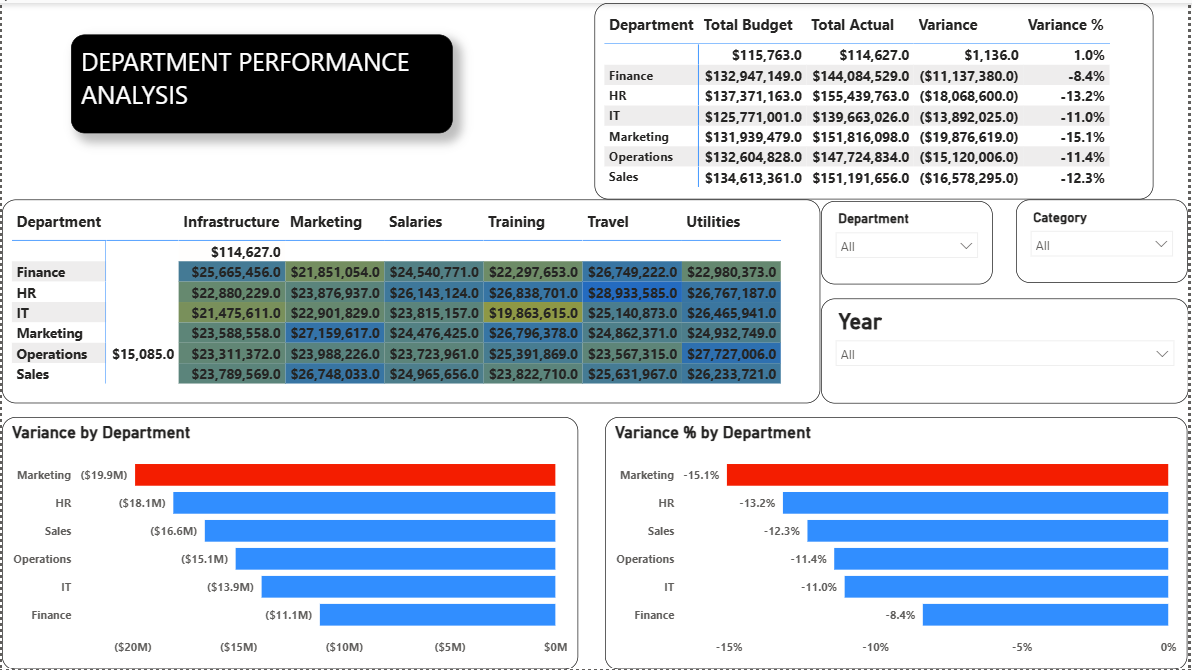

The page's visual inventory and layout, read from the dashboard file:
{"tool":"powerbi","page":{"name":"department performance analysis","canvas":[1280,720],"ordinal":1},"visuals":[{"type":"textbox","box":[75,33.3,411.7,106.7],"z":0},{"type":"clusteredBarChart","fields":{"Category":["Finance.Department"],"Y":["Finance.Variance"]},"box":[0,446.7,621.7,273.3],"z":1},{"type":"clusteredBarChart","fields":{"Y":["Finance.Variance %"],"Category":["Finance.Department"]},"box":[651.7,446.7,628.3,273.3],"z":2},{"type":"pivotTable","fields":{"Rows":["Finance.Department"],"Values":["Finance.Total Budget","Finance.Total Actual","Finance.Variance","Finance.Variance %"]},"box":[640,0,603.3,211.7],"z":3},{"type":"pivotTable","fields":{"Rows":["Finance.Department"],"Columns":["Finance.Category"],"Values":["Finance.Total Actual"]},"box":[0,211.7,883.3,220],"z":4},{"type":"slicer","fields":{"Values":["Finance.Category"]},"box":[1095,211.7,185,90],"z":5},{"type":"slicer","fields":{"Values":["Finance.Department"]},"box":[883.3,213.3,185,90],"z":6},{"type":"slicer","fields":{"Values":["Date Table.Year"]},"box":[883.3,318.3,396.7,113.3],"z":7}]}

Visuals, with their boxes in screenshot pixels (x1, y1, x2, y2), scaled from the page's 1280x720 canvas onto the 1192x670 screenshot:
textbox: <bbox>70, 31, 453, 130</bbox>
clusteredBarChart - Finance.Department x Finance.Variance: <bbox>0, 416, 579, 669</bbox>
clusteredBarChart - Finance.Variance % x Finance.Department: <bbox>607, 416, 1191, 669</bbox>
pivotTable - Finance.Department x Finance.Total Budget: <bbox>596, 0, 1158, 197</bbox>
pivotTable - Finance.Department x Finance.Category: <bbox>0, 197, 823, 402</bbox>
slicer - Finance.Category: <bbox>1020, 197, 1191, 281</bbox>
slicer - Finance.Department: <bbox>823, 198, 995, 282</bbox>
slicer - Date Table.Year: <bbox>823, 296, 1191, 402</bbox>
